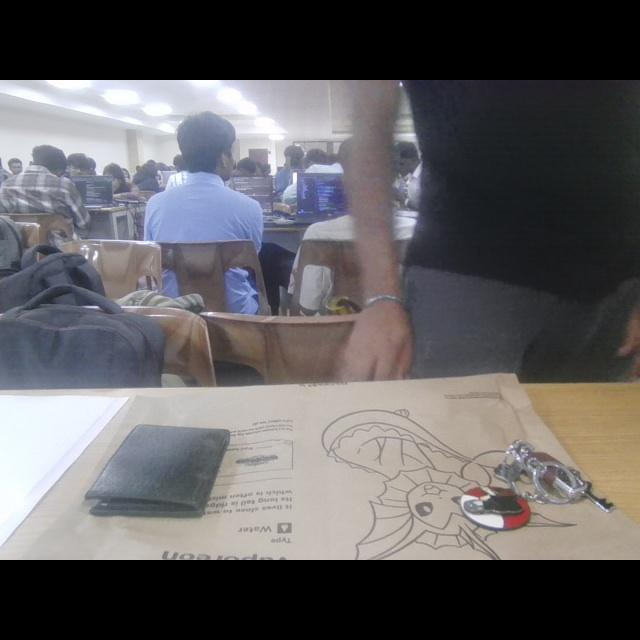keys: (452, 431, 620, 552)
wallet: (84, 396, 254, 530)
